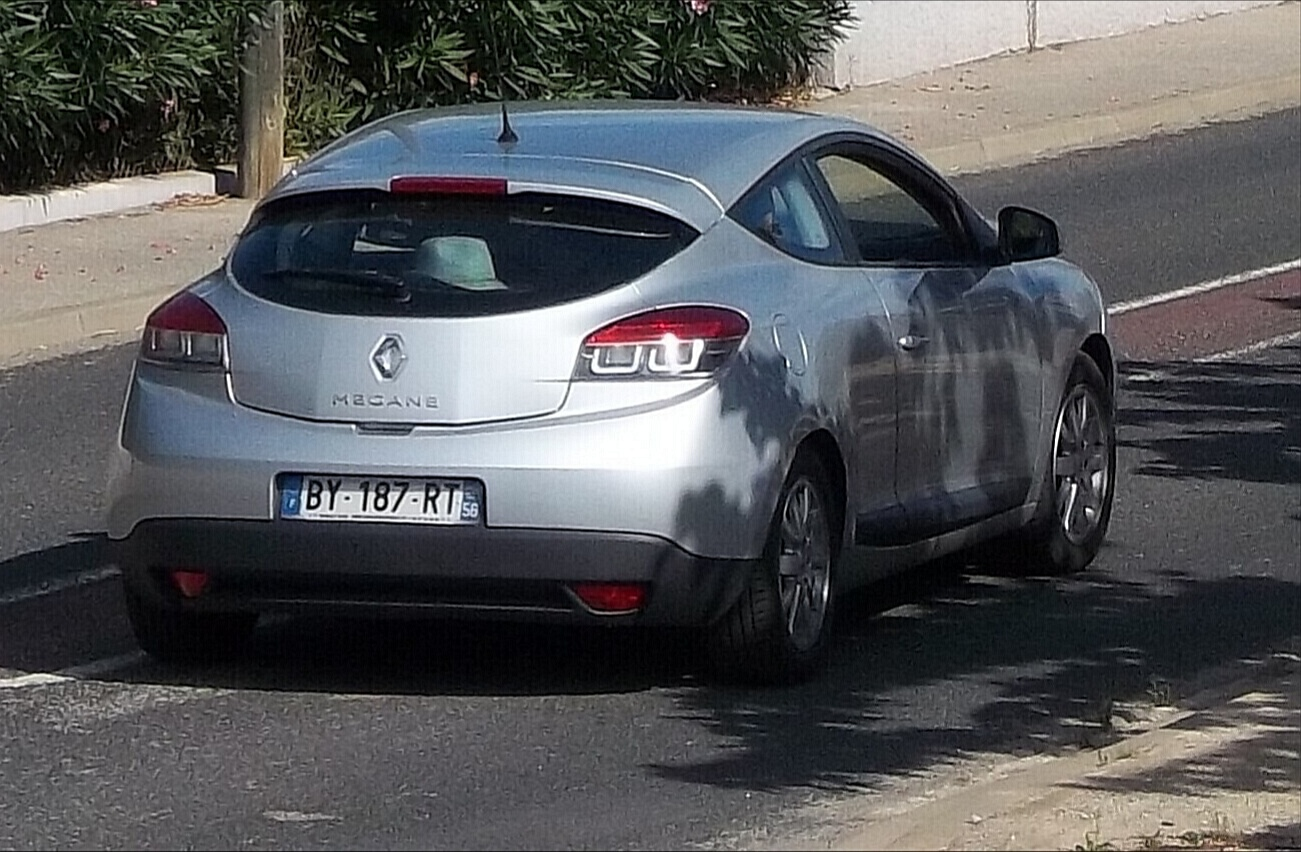licence plate: (279, 471, 487, 527)
